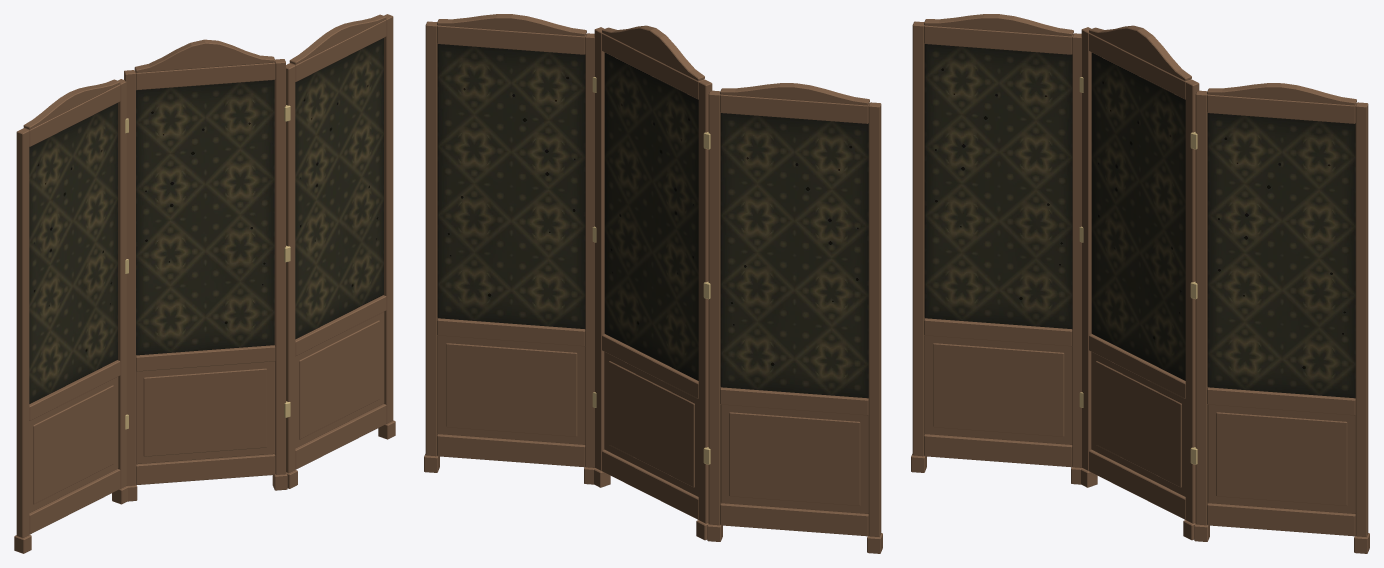
Rendered from study_folding_screen.glb.
3 views of the same model, side by side, from view 1: azimuth 30°, elevation 25°; view 2: azimuth 150°, elevation 25°; view 3: azimuth 330°, elevation 25° (orthographic). The views are drawn at different scales.
Visible parts, largest first — view 1: Folding_Screen; view 2: Folding_Screen; view 3: Folding_Screen.
Part boxes in pixels (x1,y1,x2,y2): Folding_Screen: (14, 14, 395, 553); Folding_Screen: (424, 14, 882, 553); Folding_Screen: (911, 14, 1369, 553).
Bounding box in the file's own units: 1.71 × 1.83 × 0.2519.
3 materials, 1 textured.
